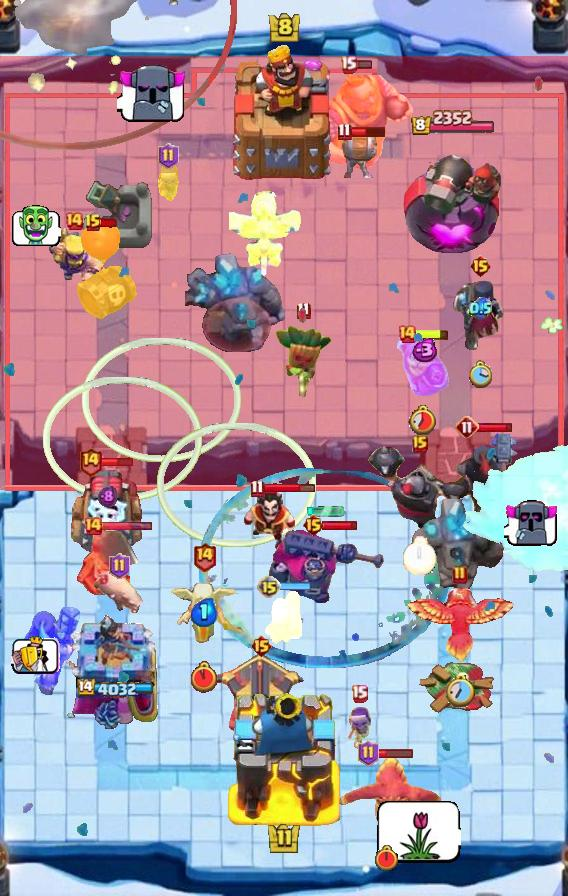arrows: (45, 220, 103, 286)
cannoneer-tower: (185, 252, 285, 352), (408, 499, 504, 597)
electro-spirit: (191, 598, 217, 627), (410, 338, 438, 362), (468, 296, 491, 320), (99, 484, 118, 507)
elixir: (403, 537, 437, 576), (408, 405, 438, 435), (446, 675, 474, 707), (191, 661, 217, 693), (468, 360, 492, 389), (373, 844, 398, 871)
emote: (263, 483, 316, 494), (101, 521, 153, 532), (349, 125, 386, 138), (414, 328, 450, 341), (100, 456, 135, 468), (477, 423, 514, 434), (322, 521, 359, 532), (377, 749, 414, 760), (279, 581, 313, 592), (100, 217, 120, 229), (354, 59, 374, 70)
firecracker-evolution: (398, 331, 451, 397)
giant: (91, 569, 147, 619)
giant-skeleton: (309, 69, 415, 171)
goblin: (152, 166, 184, 206), (344, 707, 374, 749)
goblin-barrel: (273, 325, 333, 401)
golden-knight: (404, 586, 516, 666)
golem: (67, 465, 147, 557)
ice-spirit: (306, 505, 346, 517)
inferno-dragon: (454, 430, 519, 518), (24, 601, 82, 695)
inferno-tower: (266, 528, 386, 606)
king-tower: (226, 688, 342, 826), (230, 43, 338, 181)
knight: (330, 130, 378, 178)
lava-pup: (215, 652, 307, 734)
lumberjack: (241, 489, 297, 553)
mega-knight: (460, 442, 568, 578)
mini-pekka: (229, 190, 305, 280)
mother-witch: (331, 753, 441, 831)
pad_0: (199, 466, 453, 668)
poison: (160, 572, 248, 652)
queen-tower: (65, 614, 162, 730)
rascal-boy: (451, 278, 509, 350)
royal-ghost: (0, 0, 236, 150)
royal-giant-evolution: (75, 530, 143, 600)
royal-guardian: (365, 445, 475, 531)
royal-recruit-evolution: (74, 219, 140, 323)
selected: (410, 111, 496, 138), (75, 679, 153, 699)
skeleton: (375, 799, 460, 864), (117, 62, 189, 126), (505, 497, 560, 546), (11, 205, 61, 247), (11, 637, 61, 676)
text: (192, 541, 217, 572), (78, 447, 103, 477), (455, 415, 479, 439), (257, 575, 281, 599), (468, 254, 491, 278), (303, 513, 326, 537), (251, 634, 274, 658), (158, 143, 179, 169), (110, 553, 131, 579), (357, 740, 378, 766), (64, 211, 84, 231), (397, 324, 417, 344), (83, 516, 103, 536), (84, 213, 102, 233), (339, 55, 357, 74), (351, 685, 369, 704), (452, 565, 468, 585), (412, 435, 428, 453), (296, 301, 311, 319), (250, 479, 265, 497), (337, 122, 351, 141)
tombstone: (262, 588, 304, 646)
tower-bar: (403, 138, 503, 256)
